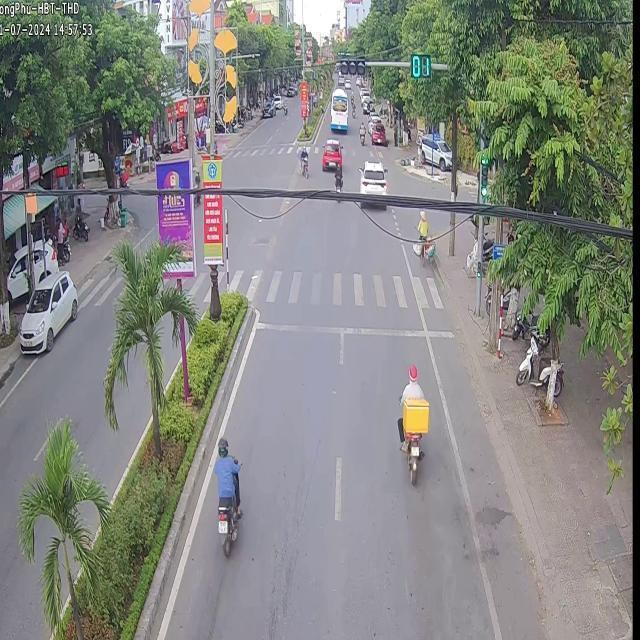car: (18, 269, 77, 351), (358, 158, 386, 194), (328, 85, 347, 130), (320, 136, 340, 168), (359, 200, 384, 207)
green_light: (410, 53, 432, 79), (481, 149, 488, 195)
motobike: (397, 365, 428, 482), (212, 436, 238, 554)
stop_line: (252, 319, 450, 336)
